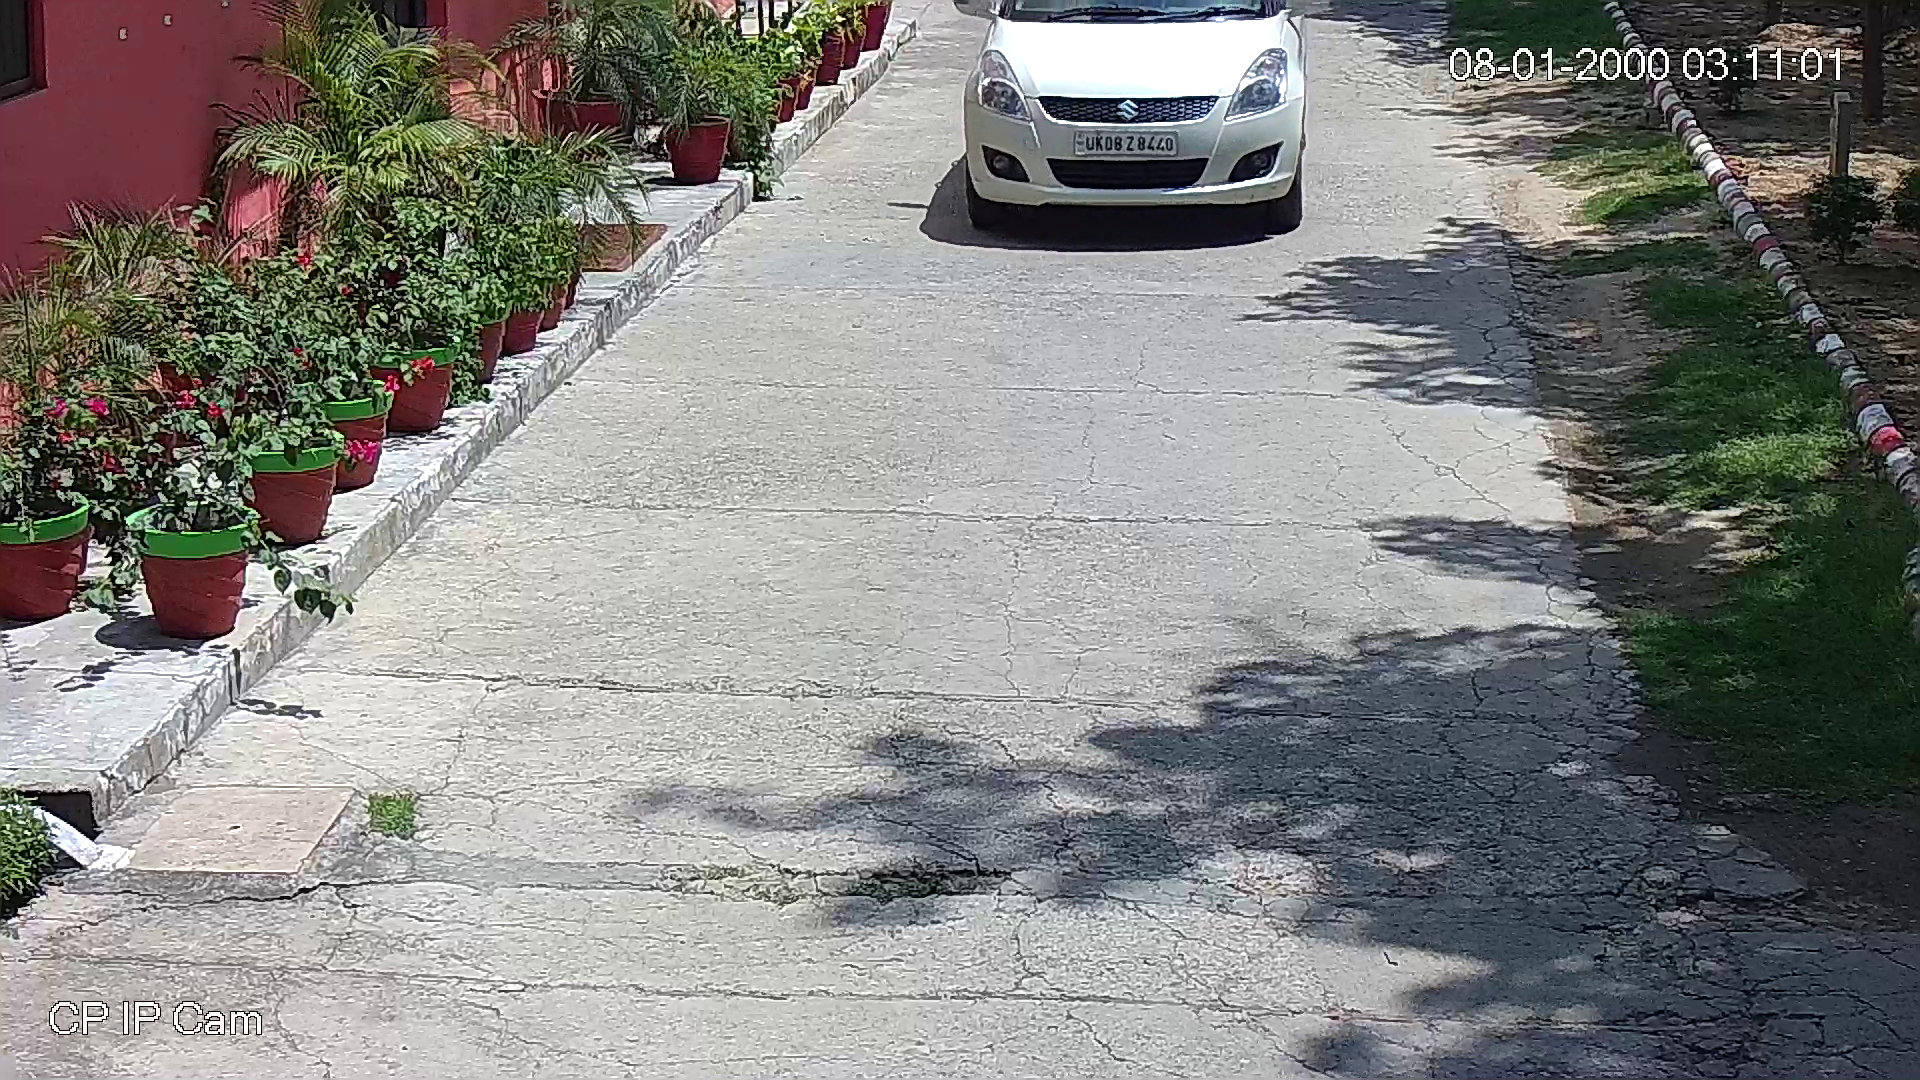plate: (1077, 130, 1178, 158)
